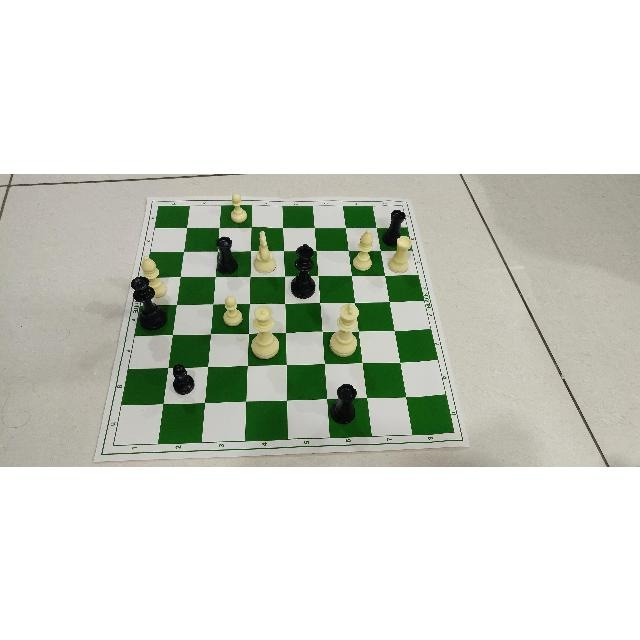black-king: (290, 241, 316, 298)
black-pawn: (166, 361, 199, 395), (168, 363, 169, 364)
black-queen: (128, 275, 170, 332)
black-rook: (327, 382, 358, 424), (211, 234, 241, 275), (381, 209, 406, 245)
white-bishop: (138, 254, 169, 298), (351, 229, 376, 271)
white-king: (327, 301, 362, 358)
white-knight: (250, 229, 278, 273)
white-pawn: (220, 294, 246, 326), (226, 192, 250, 223)
white-queen: (249, 305, 280, 359)
white-rook: (387, 233, 413, 273)
